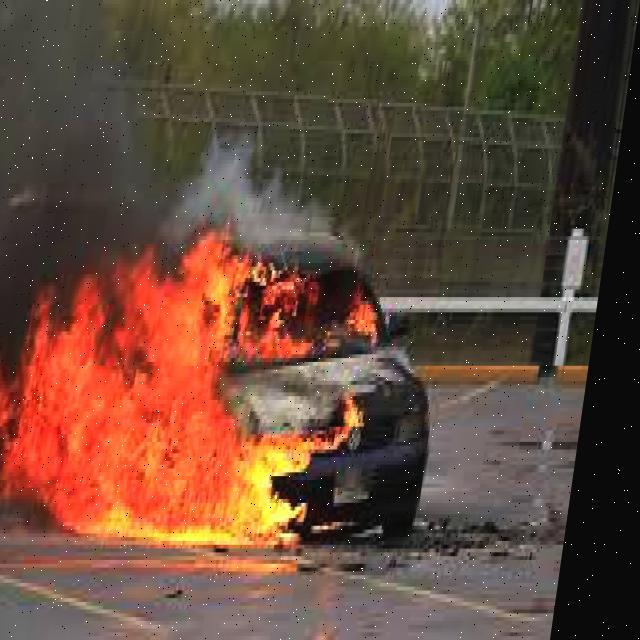Fire: (0, 202, 355, 568)
